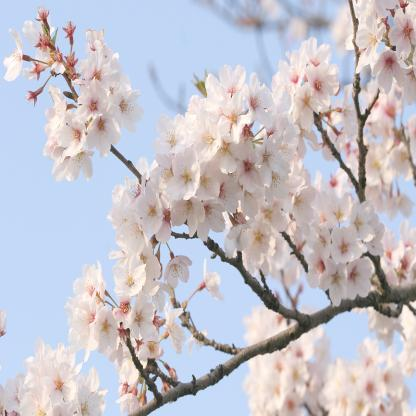Someiyoshino: (0, 0, 416, 414)
